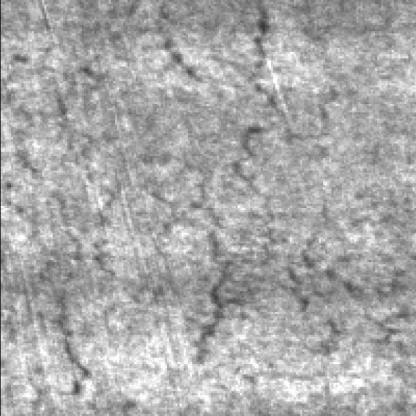crazing: (156, 6, 274, 364), (43, 66, 126, 402), (278, 198, 404, 358)
